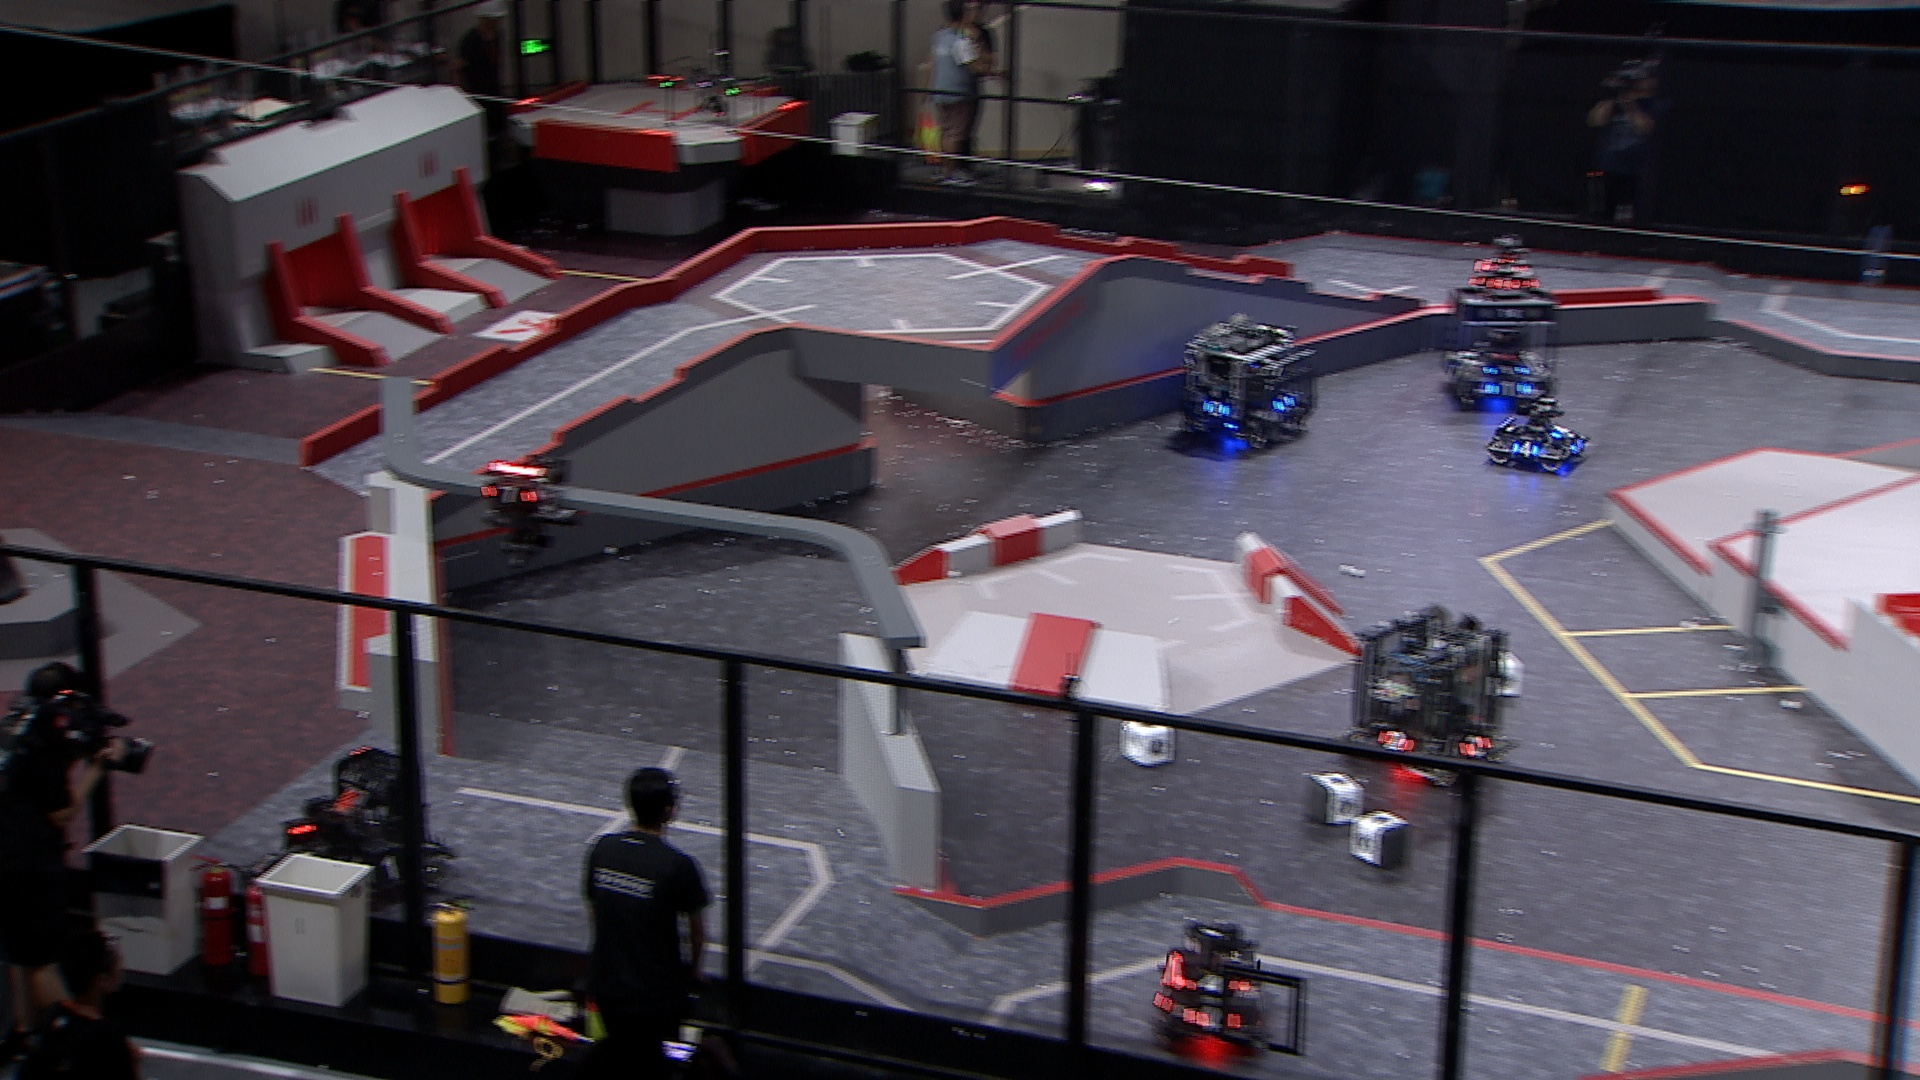armor: (1178, 1005, 1245, 1034), (1185, 971, 1244, 996), (363, 855, 404, 887), (483, 485, 538, 506), (1458, 731, 1494, 760), (1377, 728, 1415, 754), (1484, 381, 1534, 401), (1482, 363, 1531, 376), (1510, 440, 1542, 460), (1201, 400, 1234, 418), (1484, 276, 1522, 291), (1486, 261, 1523, 276), (1548, 423, 1577, 442), (1271, 394, 1298, 413)
car: (237, 746, 458, 920), (1342, 604, 1520, 793), (1178, 316, 1319, 452), (1149, 920, 1275, 1058), (1443, 285, 1557, 414), (1484, 394, 1588, 473), (1468, 233, 1542, 299)
watcher: (480, 452, 576, 560)
